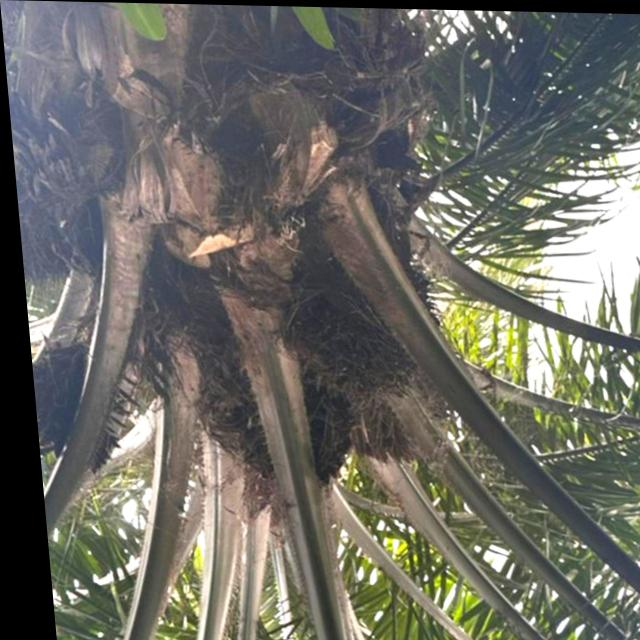unripe: (264, 216, 452, 409), (179, 323, 362, 499)
